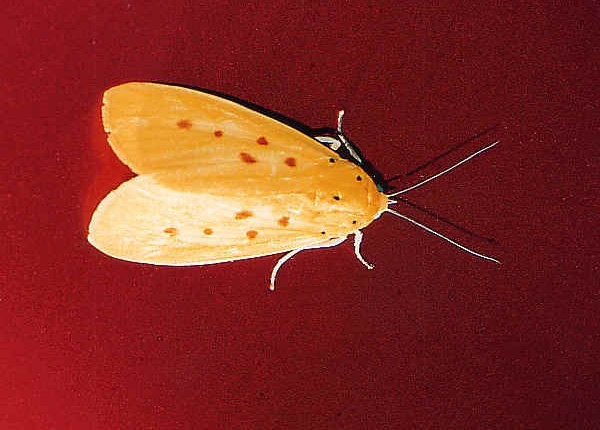Agape chloropyga: (79, 76, 507, 293)
moth: (81, 78, 509, 295)
